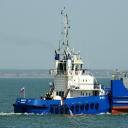tugboat: (13, 48, 115, 119)
